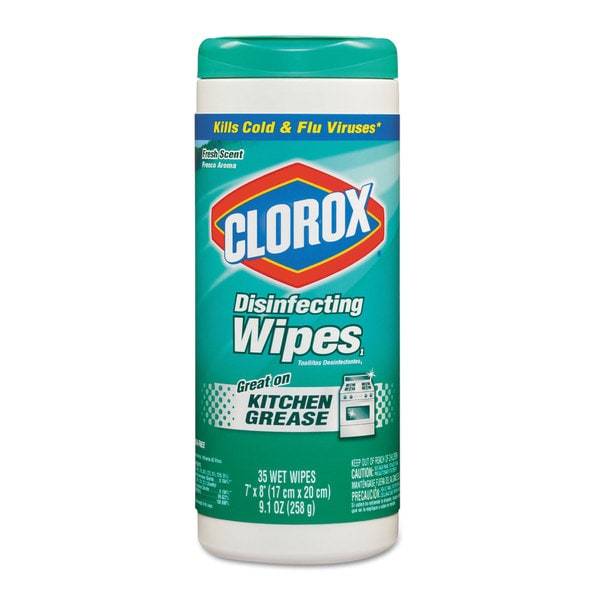Wipes: (187, 30, 407, 572)
